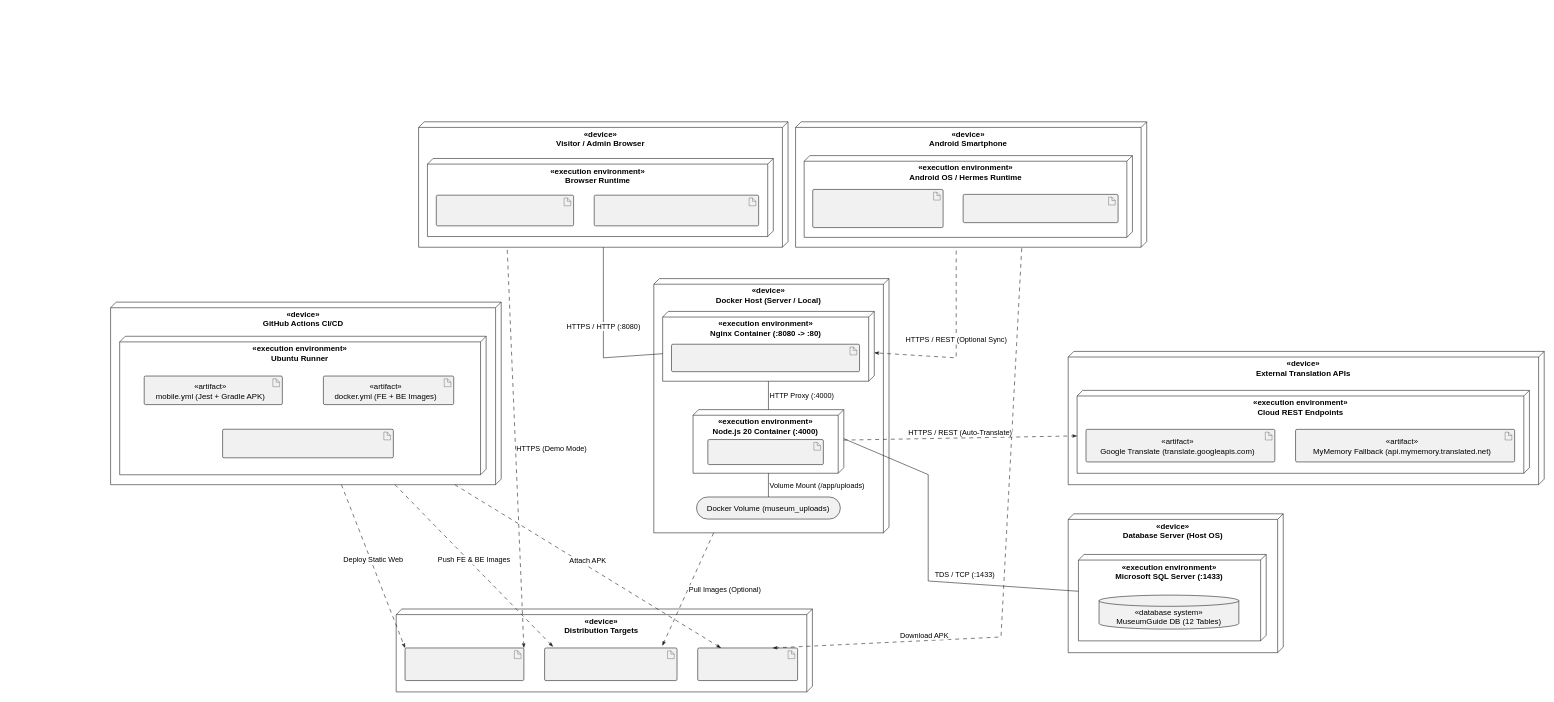
This 1554x702 diagram has some shape labels left out. The centre of each missing label's shape, as x and y in pixels:
«artifact» AsyncStorage (Offline Cache & Queue): [1040,208]
«artifact» deploy.yml (Web + Backend CI / Pages): [307,443]
«artifact» Express API (dist/index.js): [765,452]
«artifact» GHCR (ghcr.io Docker Images): [610,664]
«artifact» GitHub Pages (Static Demo): [464,664]
«artifact» GitHub Releases (APK): [747,664]
«artifact» museum-audio-guide.apk (Bundled Audio, Maps, Images): [877,208]
«artifact» React SPA (index.html + bundle): [505,210]
«artifact» Static Web + Reverse Proxy (/api, /uploads): [765,358]
«artifact» Web Storage (Local / SessionStorage): [676,210]
